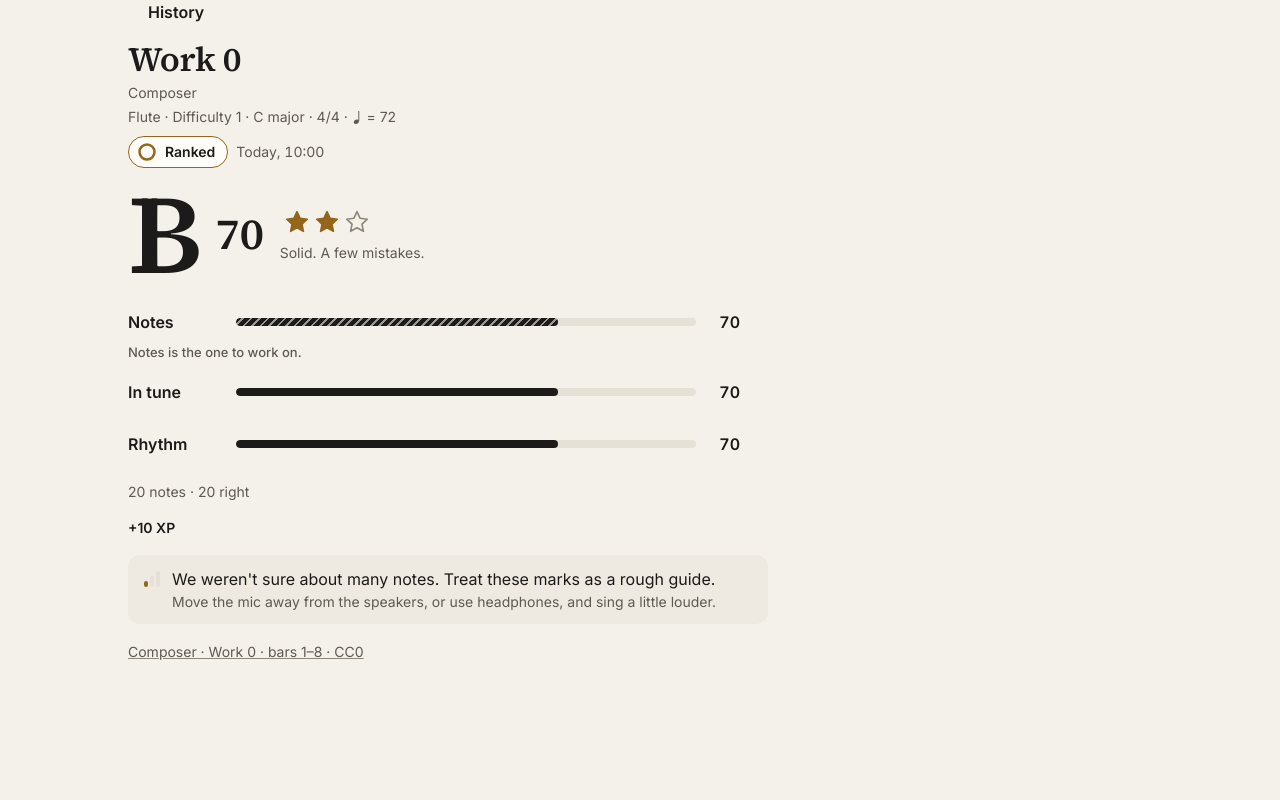
AttemptScreen › opens the source sheet from the attempt header
Click the button with class "hist-credit" at [246, 652], box left=128, top=640, right=1152, bottom=664
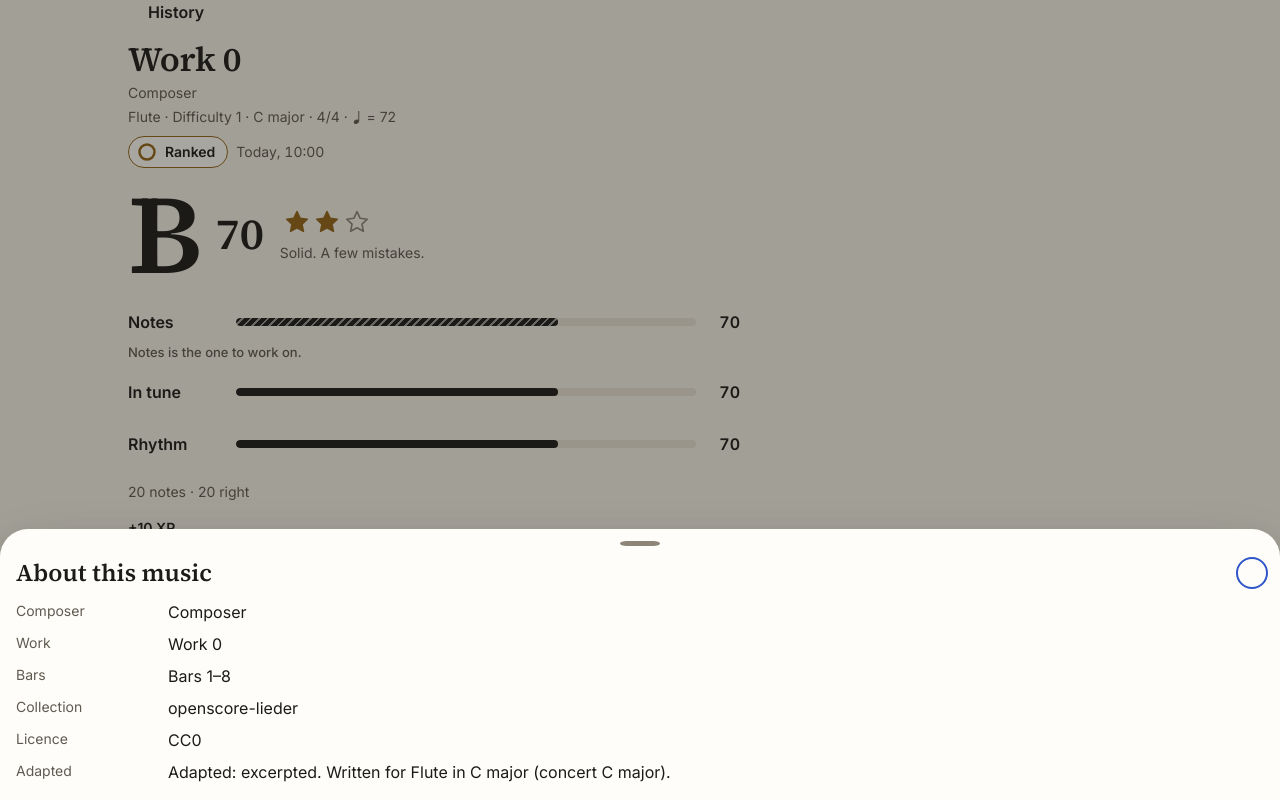
Now the element with test id "source-sheet" is shown, box left=16, top=602, right=671, bottom=782
